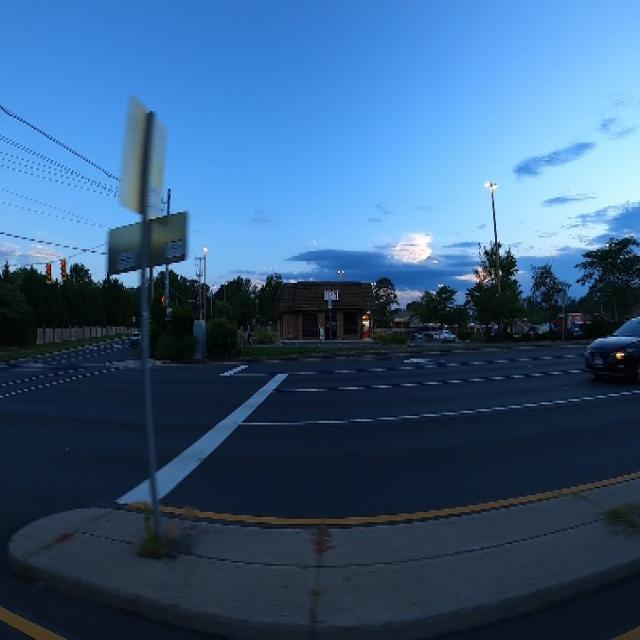cars: (585, 309, 640, 392), (439, 323, 456, 344)
